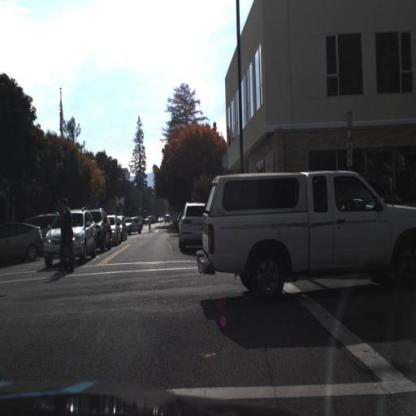car: (200, 172, 416, 304), (48, 208, 96, 264), (2, 219, 44, 266), (179, 203, 215, 252)
pedestrian: (60, 200, 76, 277), (61, 204, 73, 274)
